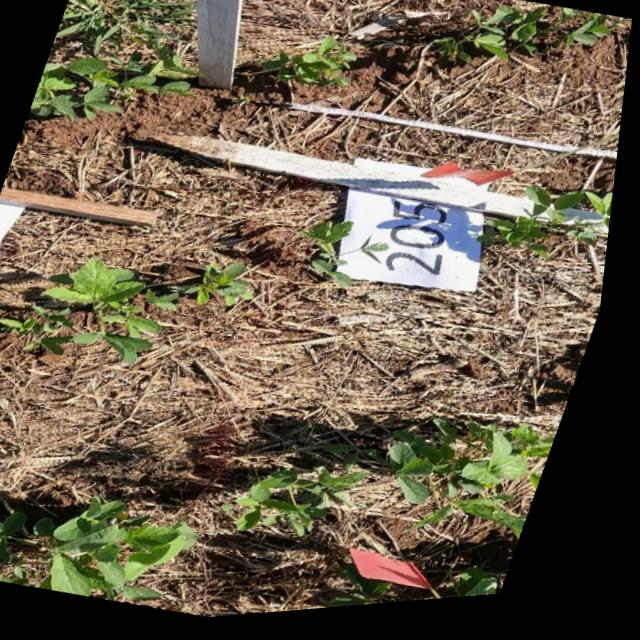grassy_weed: (56, 0, 195, 53)
soy_plant: (8, 259, 258, 365), (0, 499, 209, 604), (400, 426, 565, 512), (32, 48, 198, 121), (436, 12, 621, 68), (485, 194, 619, 267), (248, 472, 378, 541), (262, 41, 359, 91), (307, 226, 359, 292), (464, 507, 539, 544), (345, 571, 402, 614), (466, 574, 515, 607), (420, 513, 465, 537), (367, 247, 393, 264), (542, 483, 553, 498)
